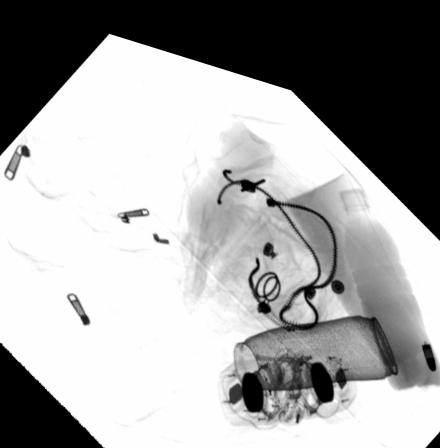Bullet: (420, 317, 436, 346)
